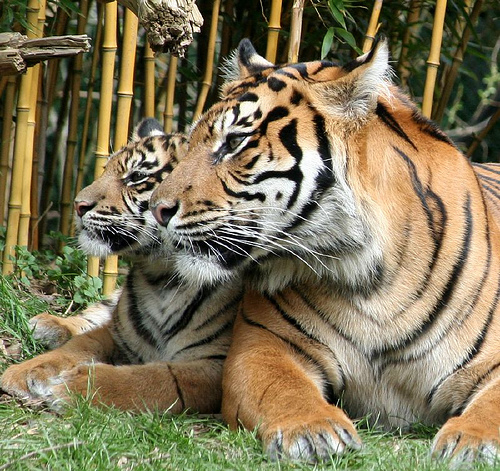Tigre: (157, 62, 487, 348), (46, 119, 192, 249)
